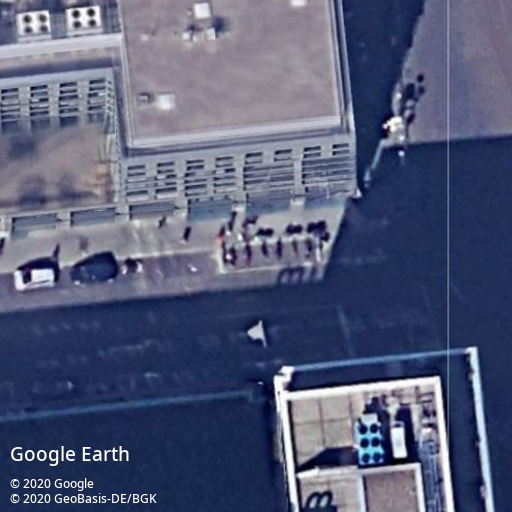Chiller: (355, 422, 384, 468), (64, 5, 102, 31), (16, 9, 52, 36)
